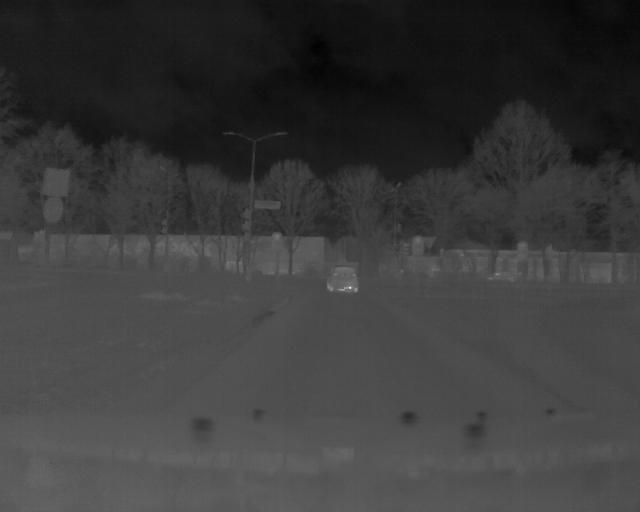car: (324, 263, 363, 296)
